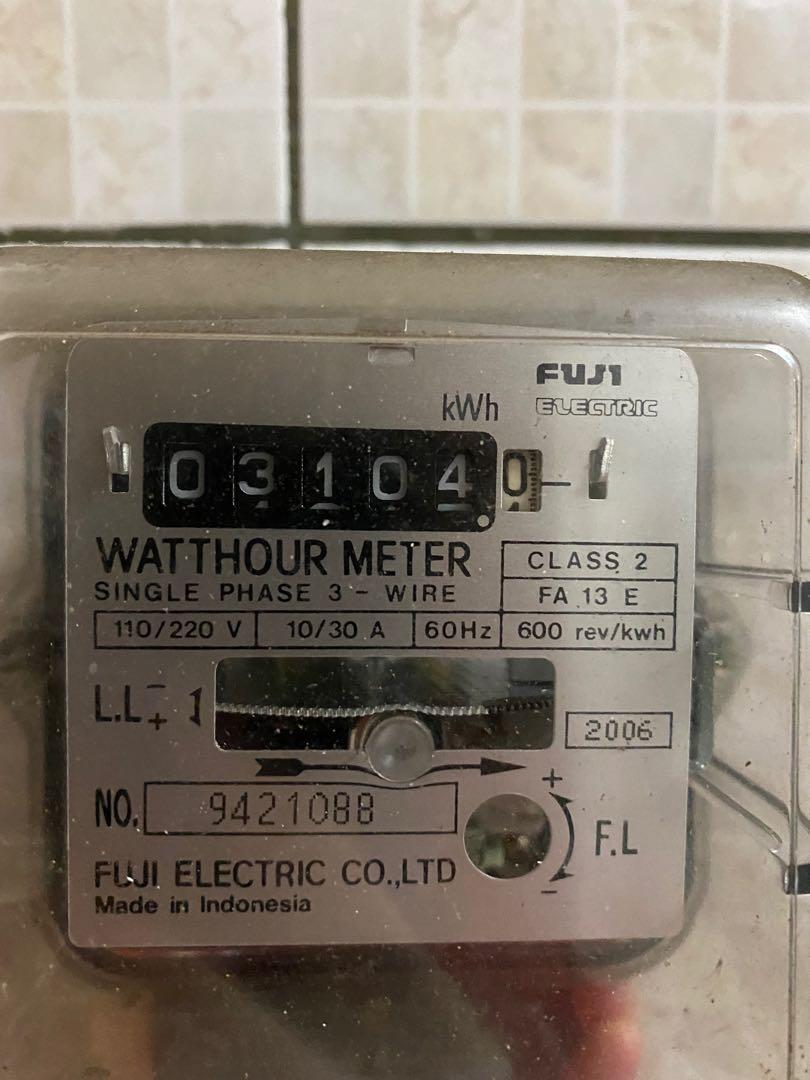show: (140, 420, 503, 531)
